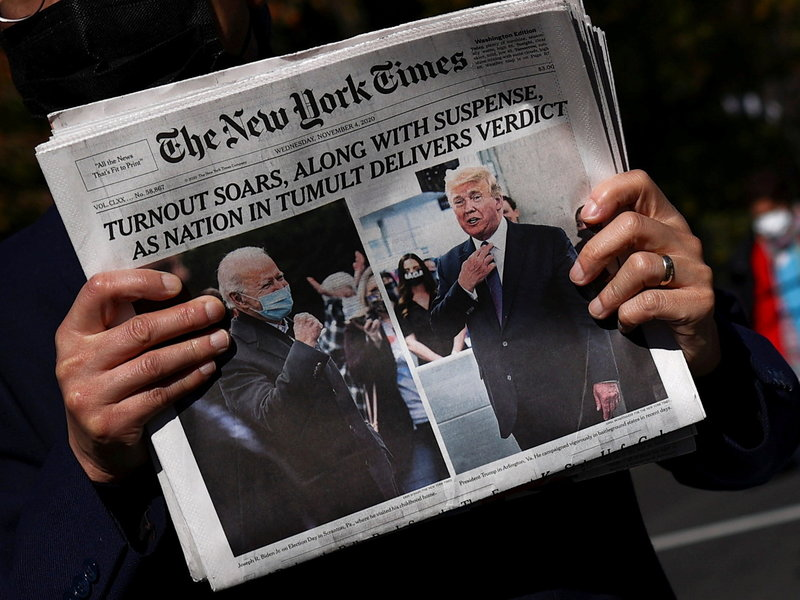news_paper: (29, 1, 712, 600)
